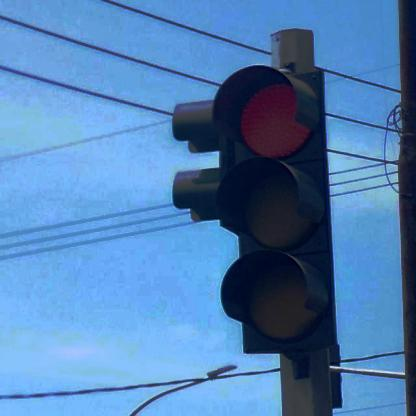Traffic Light -Red-: (211, 65, 334, 351)
